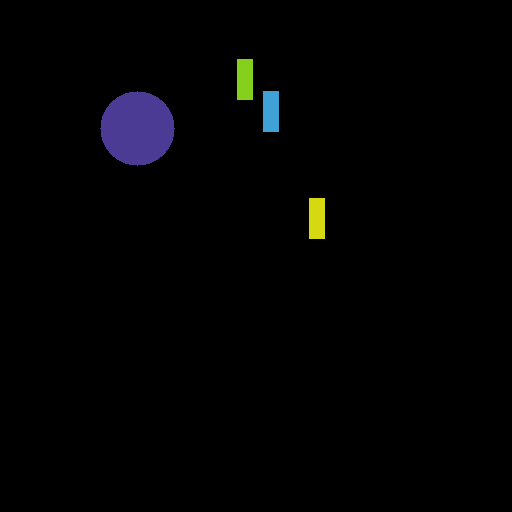circle: (92, 85, 181, 169)
up_rect: (259, 83, 282, 133), (235, 55, 258, 105), (303, 192, 326, 242)
